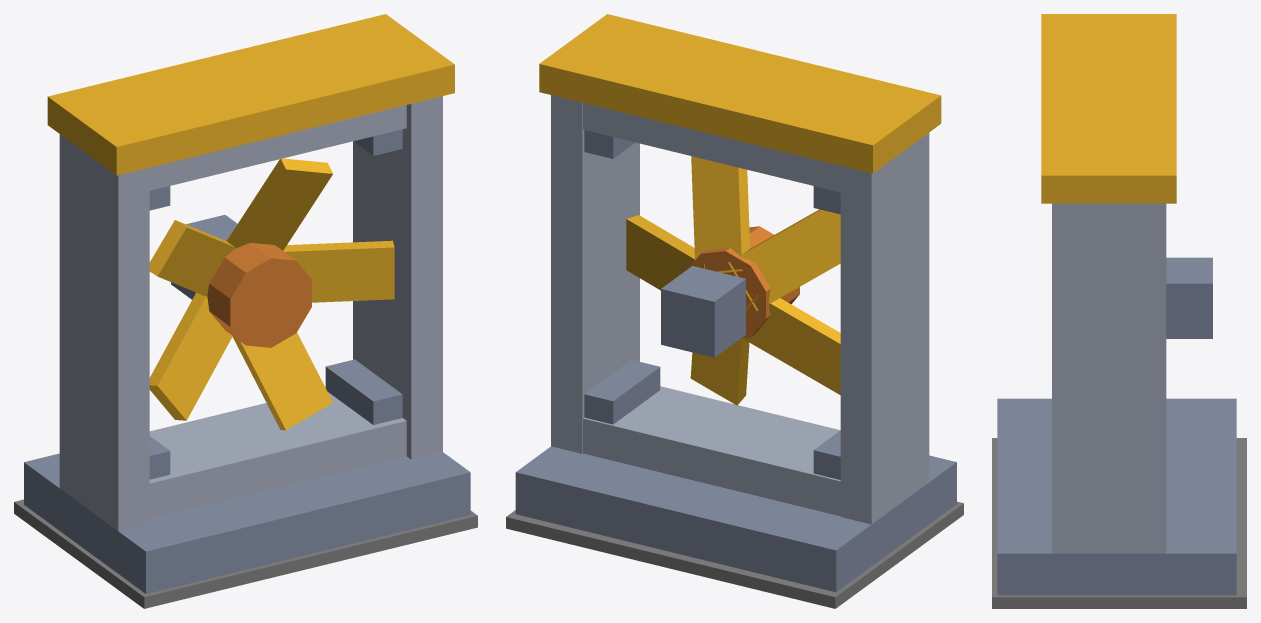
File: fan_strong.glb
3 views of the same model, side by side, from view 1: azimuth 30°, elevation 25°; view 2: azimuth 150°, elevation 25°; view 3: azimuth 270°, elevation 25° (orthographic). The views are drawn at different scales.
Visible parts, largest first — view 1: fan_strong; view 2: fan_strong; view 3: fan_strong.
Boxes of the visible parts, box(x1,y1,x2,y2) form: fan_strong: box(14, 14, 477, 608); fan_strong: box(506, 14, 963, 608); fan_strong: box(992, 14, 1246, 608).
Bounding box in the file's own units: 1.5 × 1.88 × 1.
